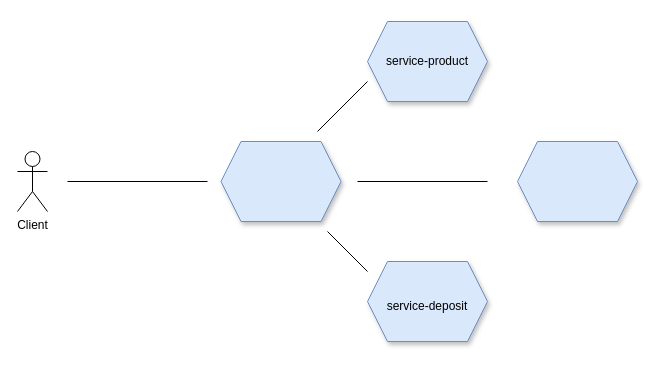
Some shapes in this 666 by 366 pixel diagram are drawn without their labels. Each missing label, with the centre of its shape:
service-customer: the point at 281,182
service-withdrawal: the point at 578,182
